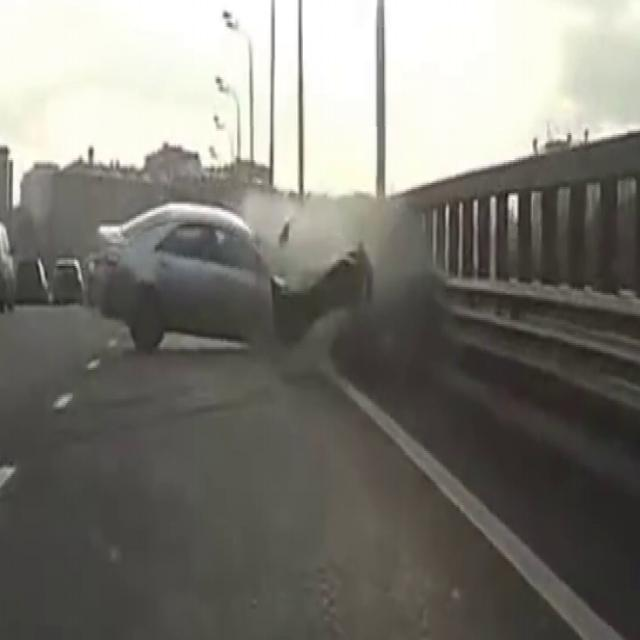accident: (86, 156, 421, 393)
